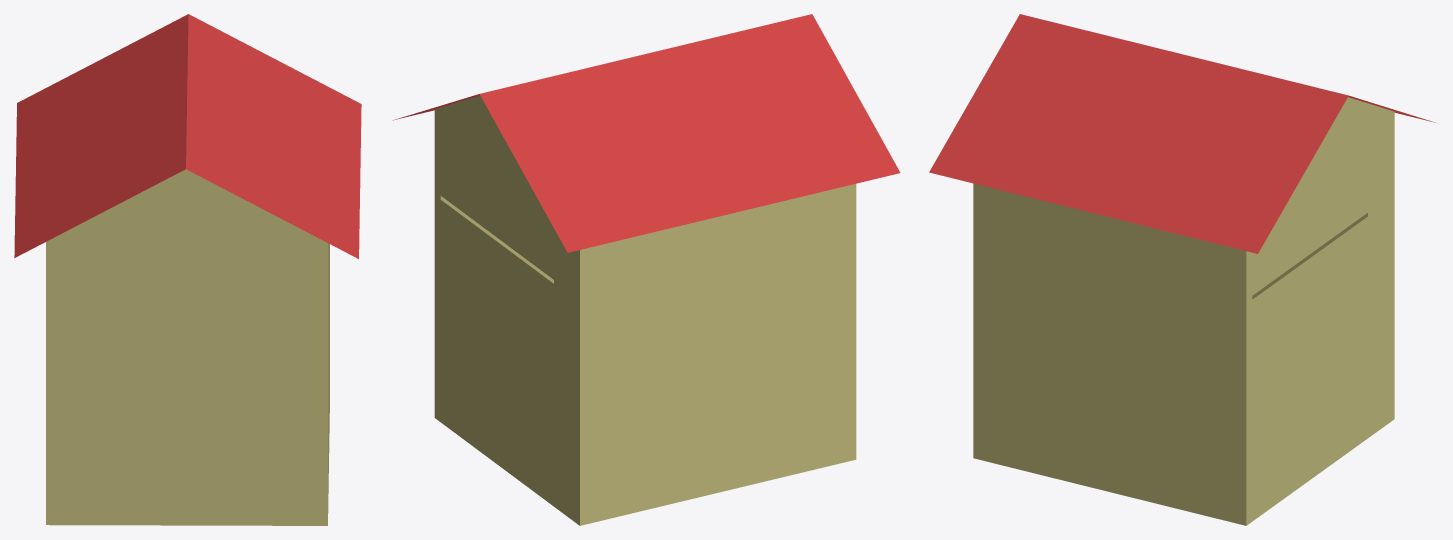
3 views of the same model, side by side, from view 1: azimuth 30°, elevation 25°; view 2: azimuth 150°, elevation 25°; view 3: azimuth 270°, elevation 25° (orthographic). The views are drawn at different scales.
Size of the model in its own units: 11.59 by 11.79 by 9.79.
